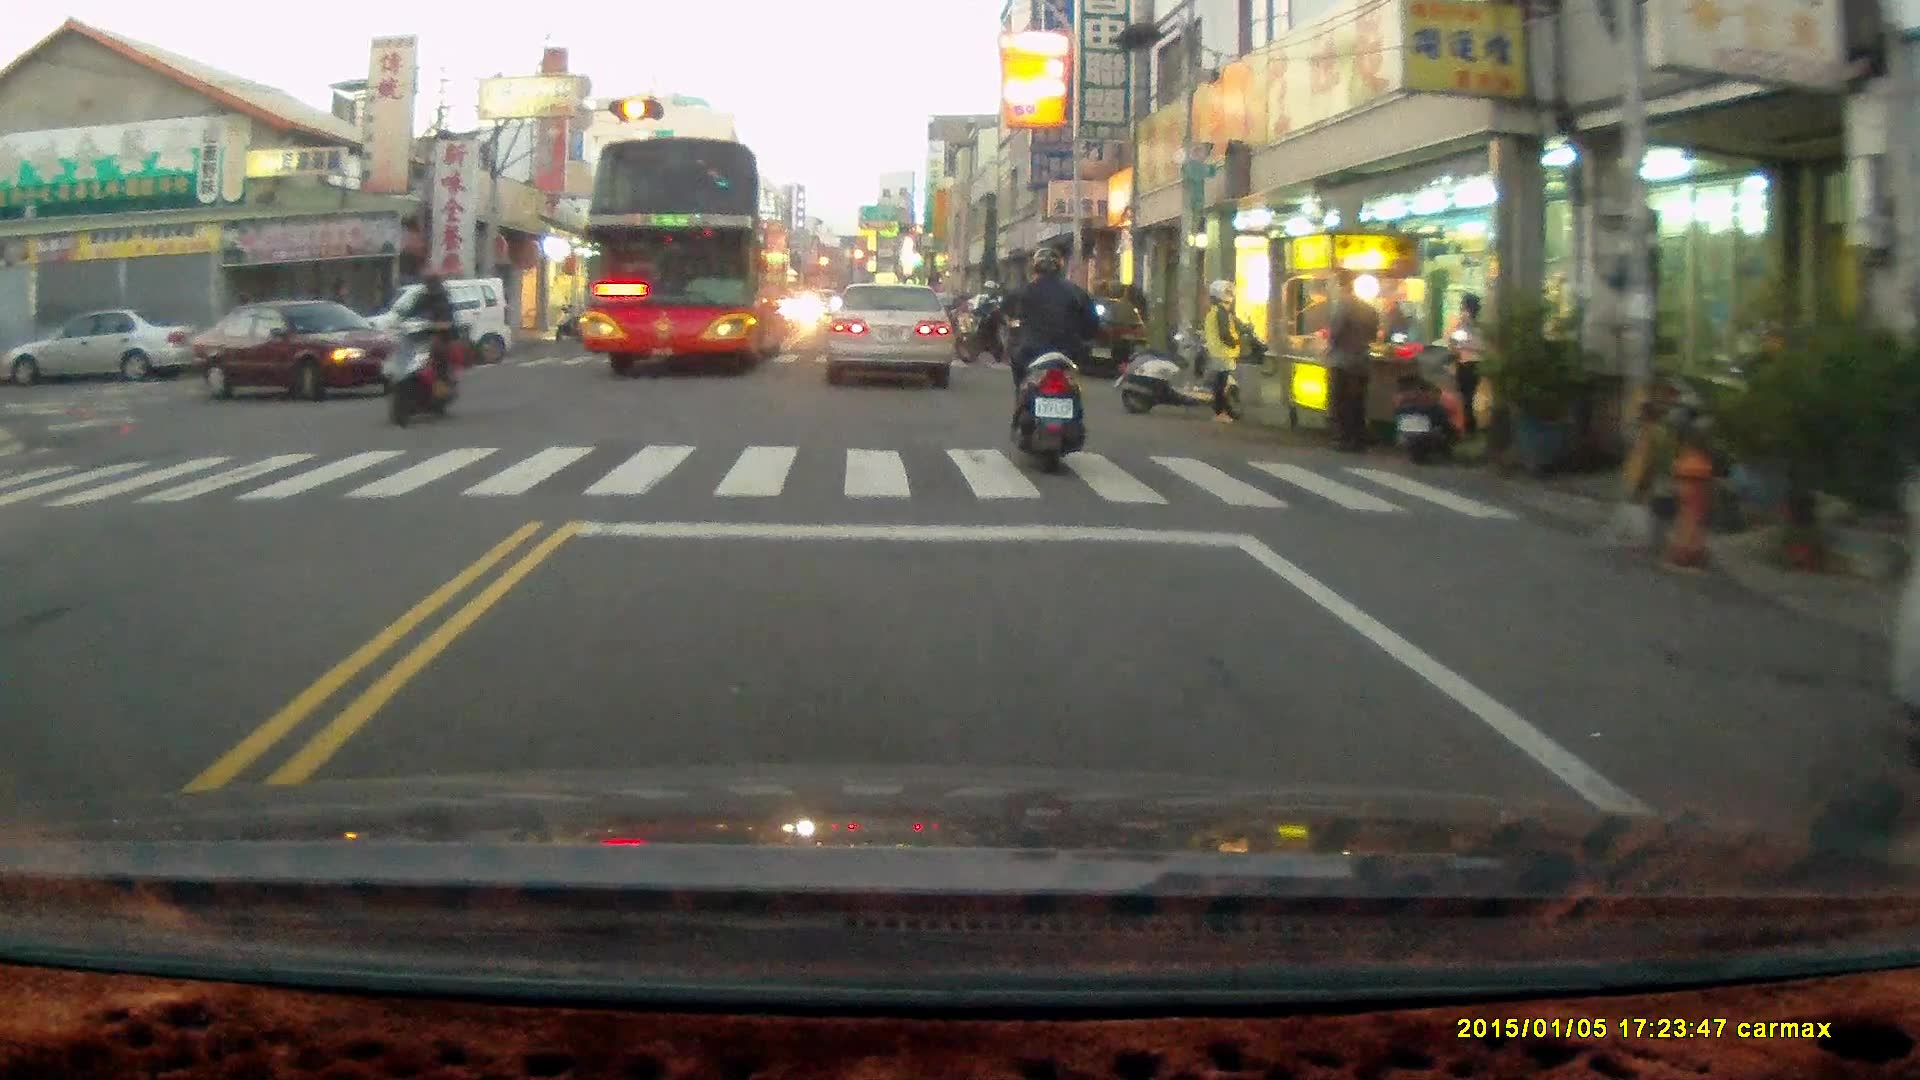pedestrian: (1324, 266, 1380, 455), (1200, 280, 1243, 430), (1443, 294, 1489, 435)
rider: (995, 241, 1106, 476), (380, 263, 461, 425), (953, 280, 1020, 366)
vehicle: (583, 139, 790, 383), (197, 303, 418, 404), (826, 284, 960, 389), (362, 279, 517, 371), (9, 311, 185, 388), (1047, 293, 1153, 377)
